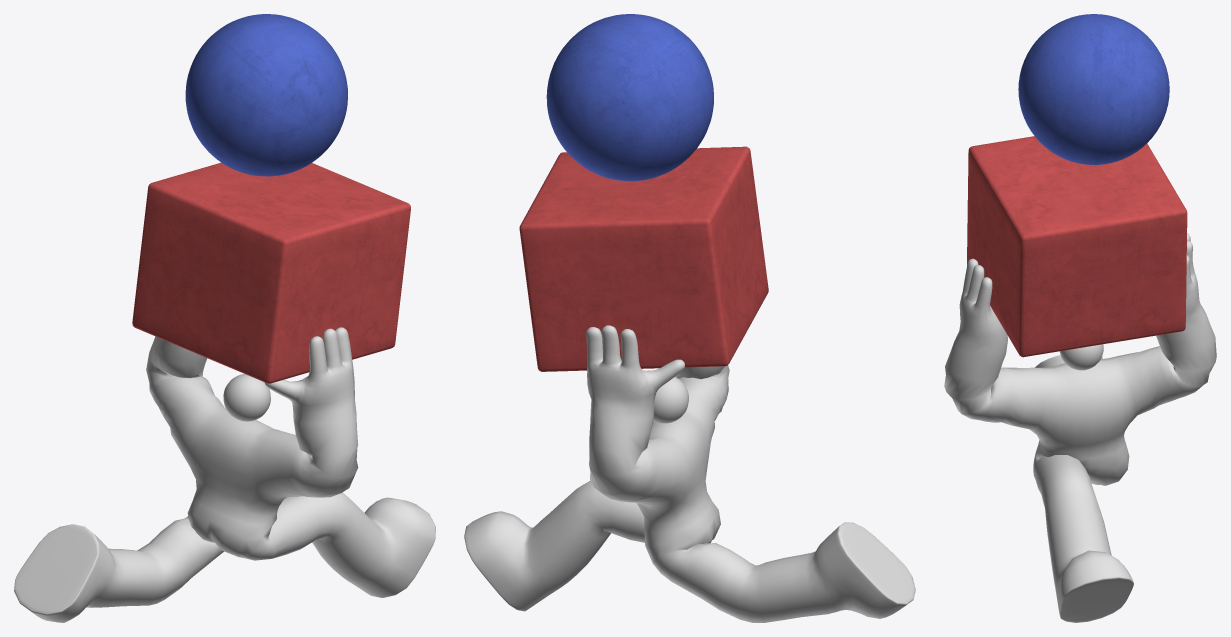
File: kv1-man3.gltf
The picture shows the model from 3 angles, left to right: view 1: azimuth 30°, elevation 25°; view 2: azimuth 150°, elevation 25°; view 3: azimuth 270°, elevation 25°; orthographic projection. The views are drawn at different scales.
Visible parts, largest first — view 1: man3; view 2: man3; view 3: man3.
Boxes of the visible parts, x1,y1,x2,y2 form: man3: (14, 14, 435, 622); man3: (464, 14, 915, 622); man3: (944, 14, 1216, 622).
Size of the model in its own units: 40.66 by 55.71 by 24.8.
3 materials, 3 textured.
